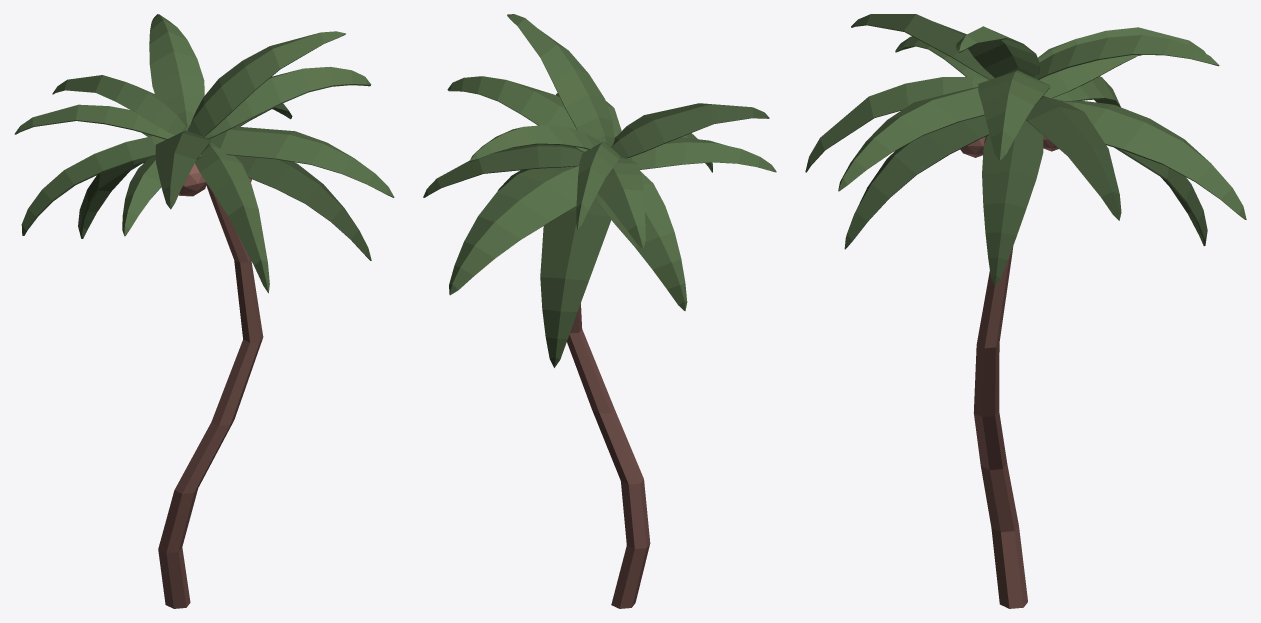
File: PalmTree_4.glb
3 views of the same model, side by side, from view 1: azimuth 30°, elevation 25°; view 2: azimuth 150°, elevation 25°; view 3: azimuth 270°, elevation 25° (orthographic). The views are drawn at different scales.
Visible parts, largest first — view 1: PalmTree_4; view 2: PalmTree_4; view 3: PalmTree_4.
Boxes of the visible parts, bbox=[...] form: PalmTree_4: bbox=[14, 14, 394, 608]; PalmTree_4: bbox=[423, 14, 776, 608]; PalmTree_4: bbox=[805, 14, 1246, 608].
Size of the model in its own units: 1.81 by 3.25 by 2.05.
